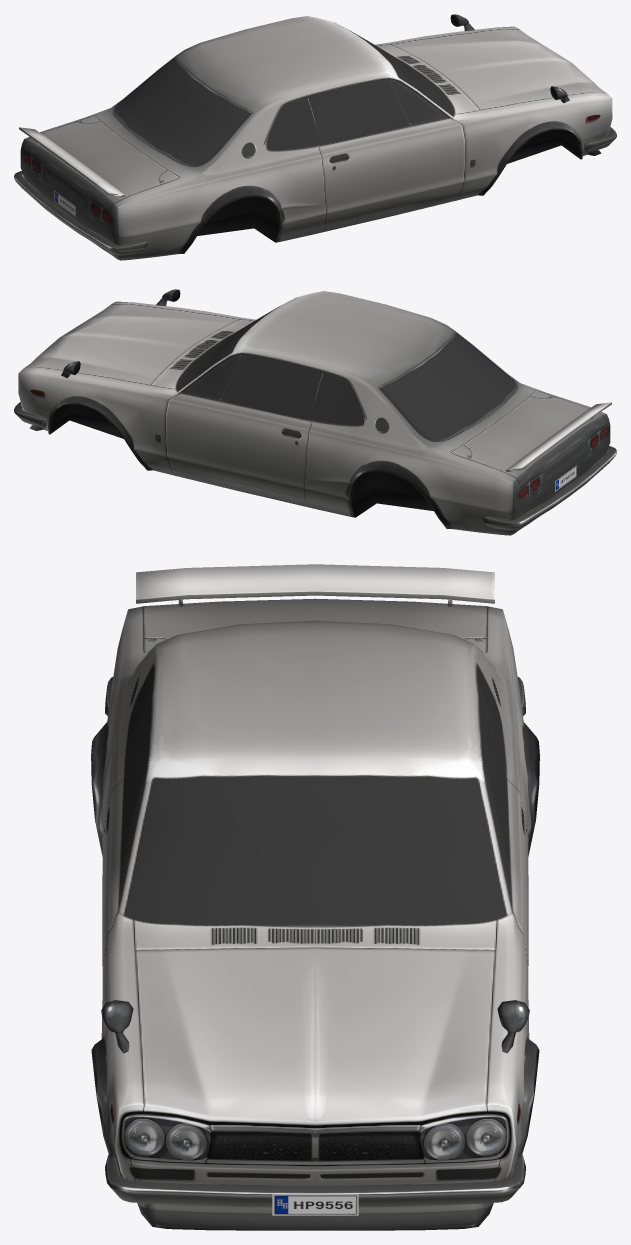
File: car 3.fbx
3 views of the same model, one above another, from view 1: azimuth 30°, elevation 25°; view 2: azimuth 150°, elevation 25°; view 3: azimuth 270°, elevation 25° (orthographic). The views are drawn at different scales.
Visible parts, largest first — view 1: car_3; view 2: car_3; view 3: car_3.
Part boxes in pixels (x1,y1,x2,y2): car_3: (14, 14, 616, 260); car_3: (14, 289, 616, 535); car_3: (91, 564, 539, 1230).
Size of the model in its own units: 2384 by 634 by 894.
1 material, 1 textured.
